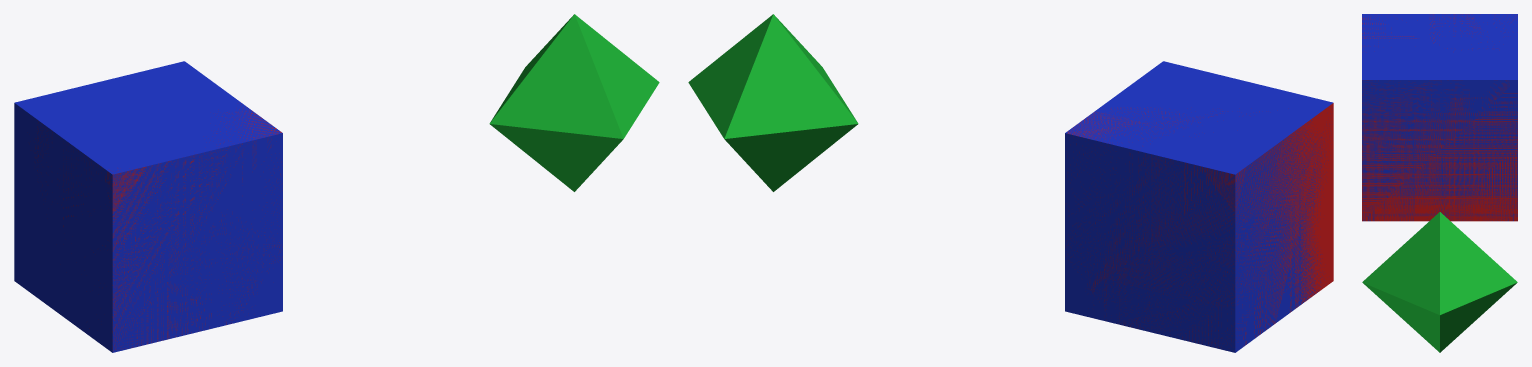
File: smoke.obj
3 views of the same model, side by side, from view 1: azimuth 30°, elevation 25°; view 2: azimuth 150°, elevation 25°; view 3: azimuth 270°, elevation 25° (orthographic). The views are drawn at different scales.
Parts seen in each view (by area): view 1: boxB, octa, boxA; view 2: boxB, octa, boxA; view 3: boxB, boxA, octa.
Part boxes in pixels (x1,y1,x2,y2): boxB: (14,61,282,352); octa: (489,14,659,191); boxA: (35,104,281,350); boxB: (1065,61,1333,352); octa: (688,14,858,191); boxA: (1067,103,1333,347); boxB: (1362,14,1517,221); boxA: (1362,14,1517,221); octa: (1362,212,1517,352).
Bounding box in the file's own units: 7 × 2 × 2.
